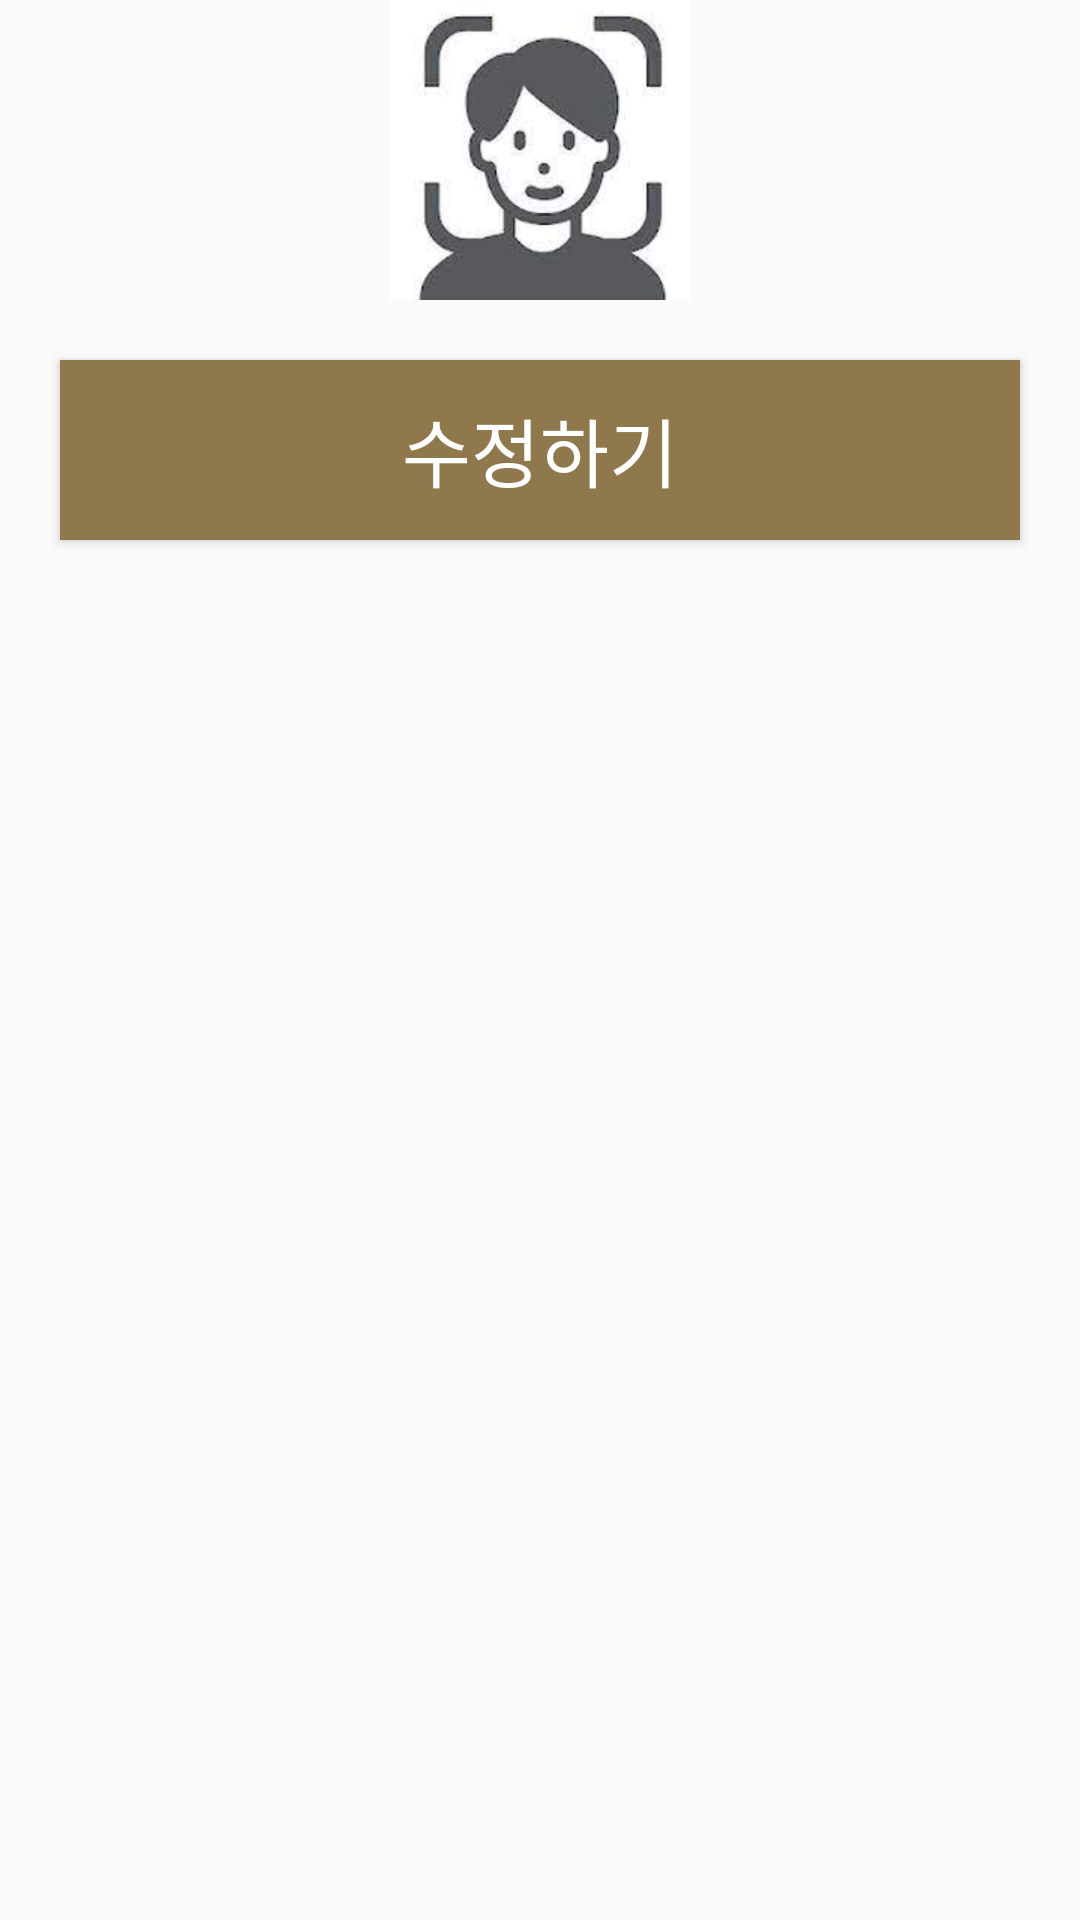

Icon click points for this 1080 x 1920 phone screenshot, format point (x, y):
profileimg: point (542, 157)
